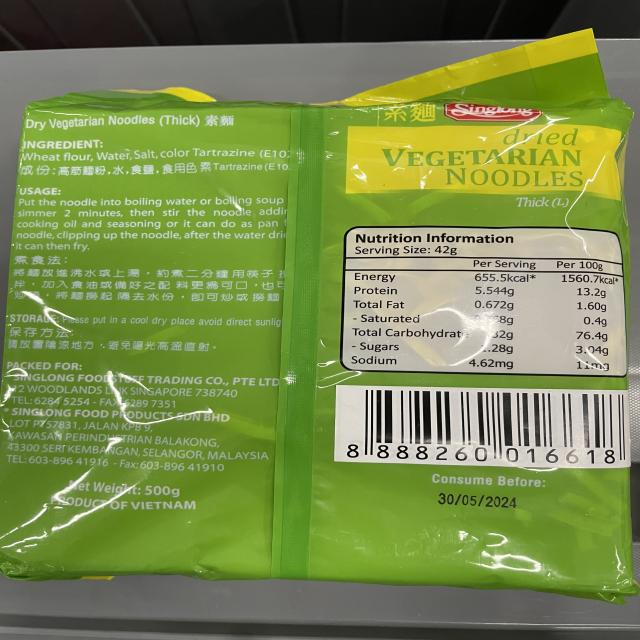object_name: (23, 89, 640, 579)
